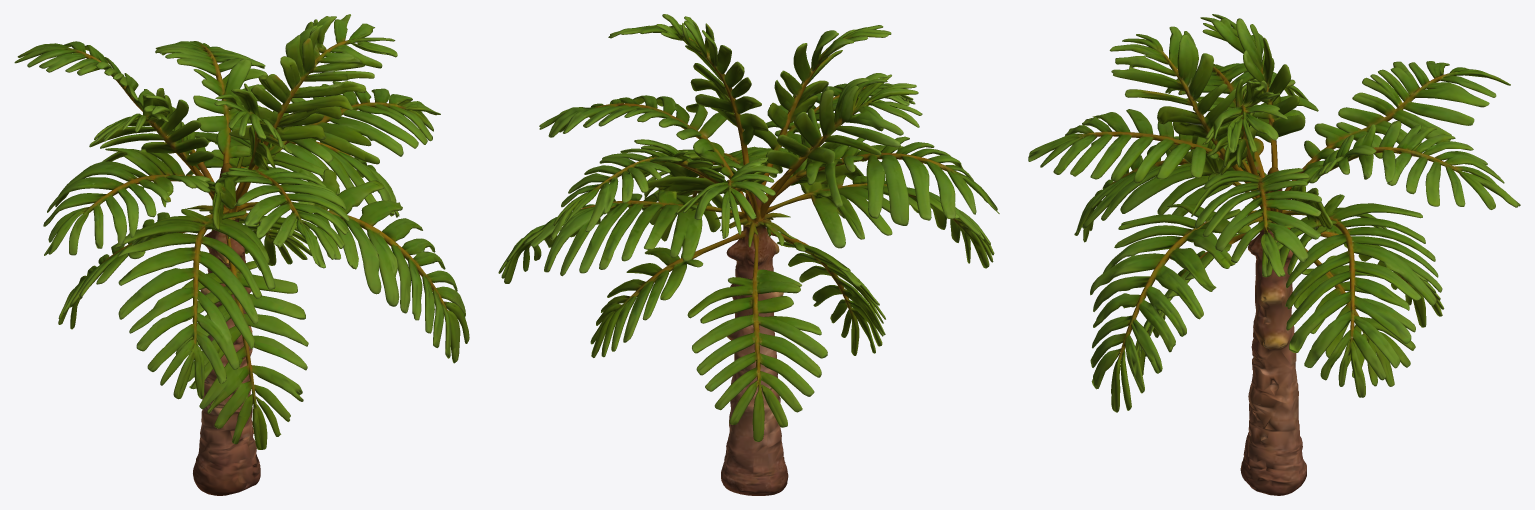
Rendered from tree_2.glb.
The picture shows the model from 3 angles, left to right: view 1: azimuth 30°, elevation 25°; view 2: azimuth 150°, elevation 25°; view 3: azimuth 270°, elevation 25°; orthographic projection.
Visible parts, largest first — view 1: tripo_node_8babbb83-d498-4f08-9c6f-67aceb0c0f73; view 2: tripo_node_8babbb83-d498-4f08-9c6f-67aceb0c0f73; view 3: tripo_node_8babbb83-d498-4f08-9c6f-67aceb0c0f73.
Boxes of the visible parts, x1,y1,x2,y2 form: tripo_node_8babbb83-d498-4f08-9c6f-67aceb0c0f73: (14, 14, 469, 495); tripo_node_8babbb83-d498-4f08-9c6f-67aceb0c0f73: (498, 14, 999, 495); tripo_node_8babbb83-d498-4f08-9c6f-67aceb0c0f73: (1028, 14, 1520, 495).
Size of the model in its own units: 0.9785 by 0.9731 by 0.9807.
1 material, 1 textured.
